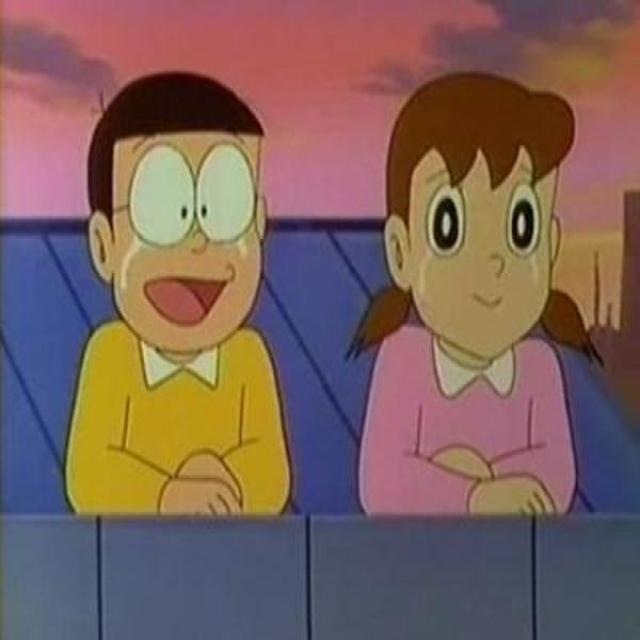nobita: (76, 64, 282, 361)
shizuka: (347, 70, 609, 387)
